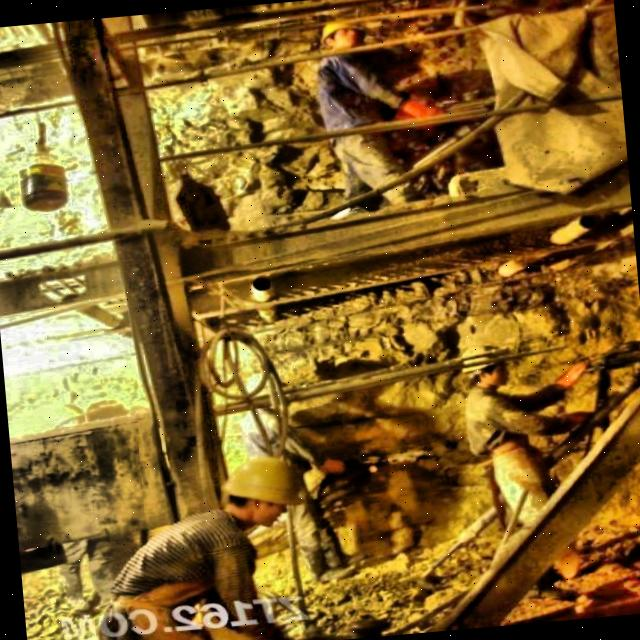helmet: (214, 442, 304, 533), (456, 341, 518, 389), (312, 14, 376, 58)
